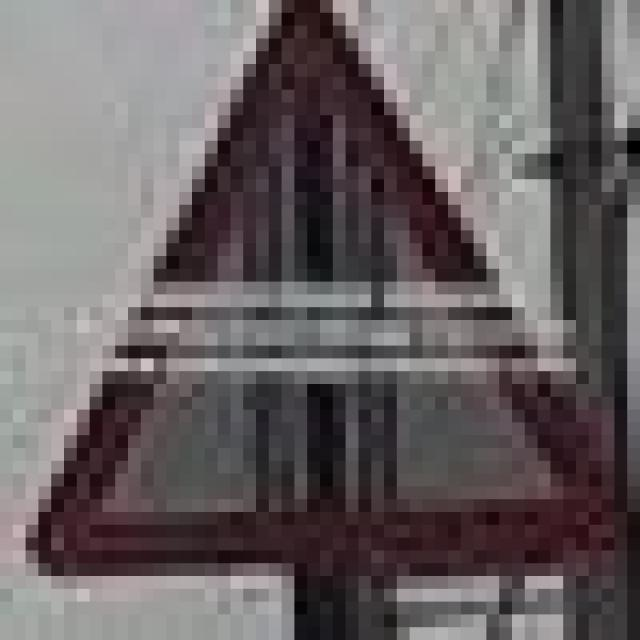GAP_IN_MEDIAN: (13, 0, 627, 563)
